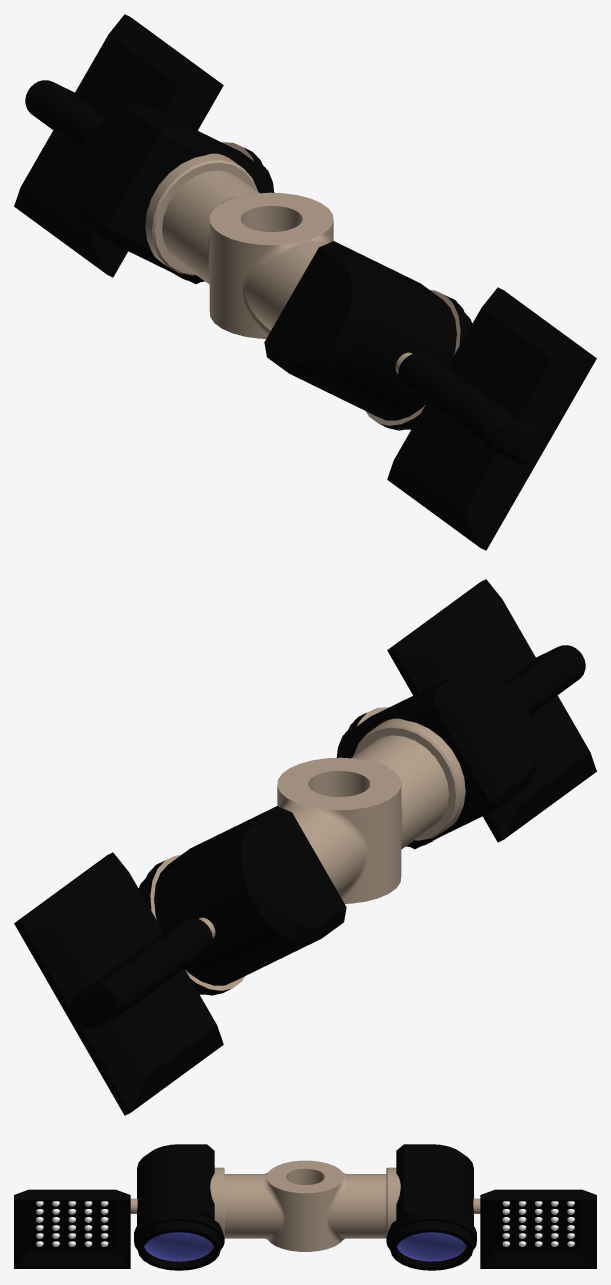
The model's file is mast_head.dae.
3 renders of one model, top to bottom at view 1: azimuth 30°, elevation 25°; view 2: azimuth 150°, elevation 25°; view 3: azimuth 270°, elevation 25°, orthographic. The views are drawn at different scales.
Parts seen in each view (by area): view 1: _3DGeom-199, _3DGeom-198; view 2: _3DGeom-199, _3DGeom-198; view 3: _3DGeom-199, _3DGeom-198, _3DGeom-200, _3DGeom-201.
Boxes of the visible parts, box(x1,y1,x2,y2) form: _3DGeom-199: box(14, 14, 596, 550); _3DGeom-198: box(145, 142, 460, 425); _3DGeom-199: box(14, 579, 596, 1115); _3DGeom-198: box(150, 707, 465, 990); _3DGeom-199: box(14, 1144, 596, 1270); _3DGeom-198: box(130, 1160, 480, 1251); _3DGeom-200: box(144, 1232, 466, 1261); _3DGeom-201: box(36, 1201, 574, 1246).
Size of the model in its own units: 0.1985 by 0.9 by 0.209.
